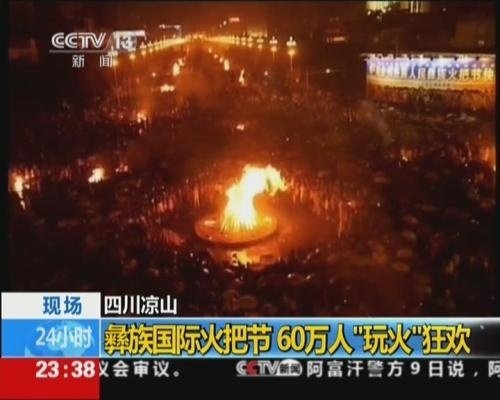fire: (219, 161, 289, 231)
